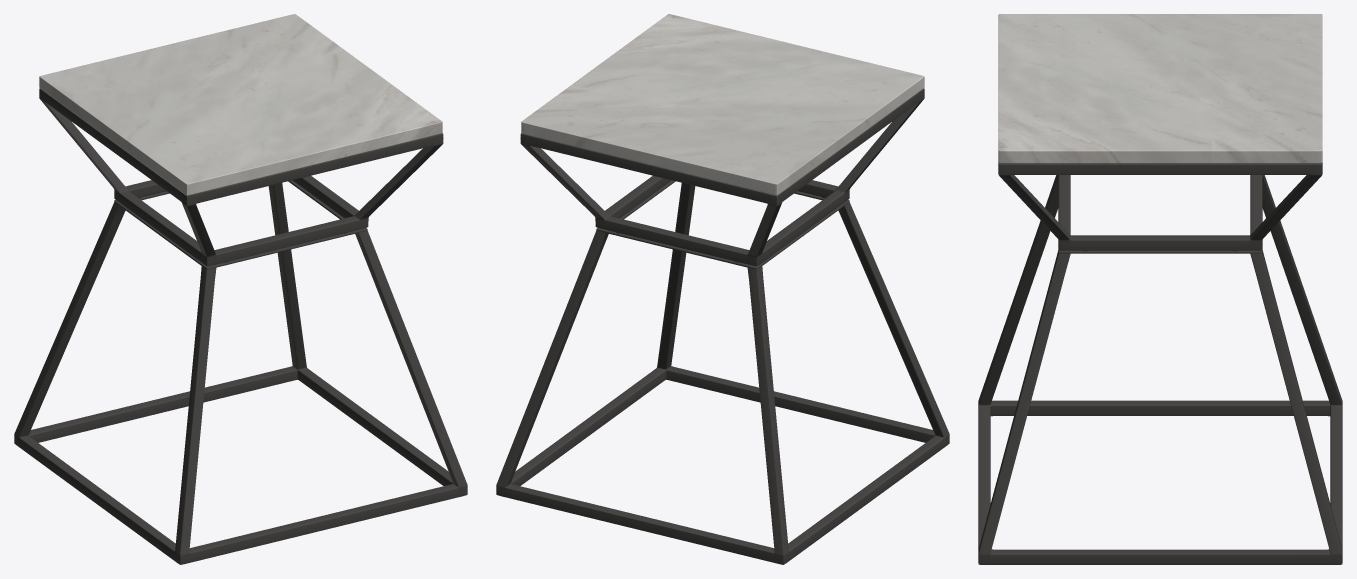
File: abo_B07B7GV4P3.glb
The picture shows the model from 3 angles, left to right: view 1: azimuth 30°, elevation 25°; view 2: azimuth 150°, elevation 25°; view 3: azimuth 270°, elevation 25°; orthographic projection. The views are drawn at different scales.
Visible parts, largest first — view 1: RootNode; view 2: RootNode; view 3: RootNode.
Boxes of the visible parts, box(x1,y1,x2,y2) form: RootNode: box(14, 14, 467, 564); RootNode: box(496, 14, 949, 564); RootNode: box(978, 14, 1342, 564).
Bounding box in the file's own units: 0.4545 × 0.5588 × 0.4545.
1 material, 1 textured.
